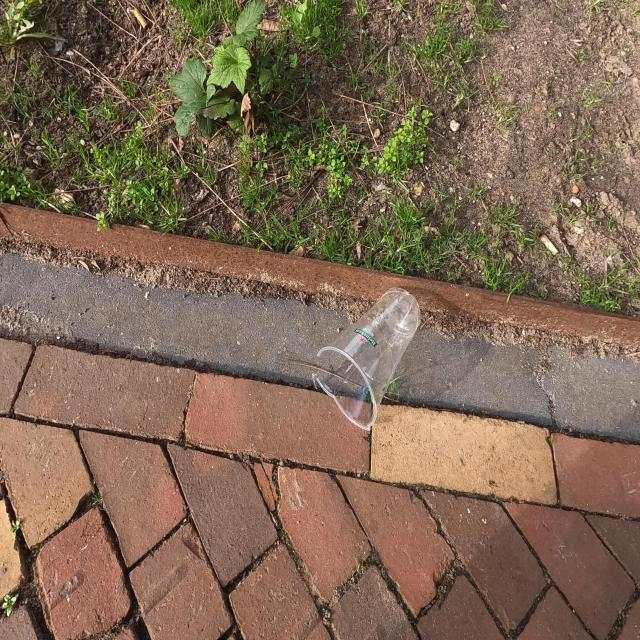Cup: (310, 285, 424, 435)
